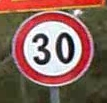limite 30: (11, 10, 94, 87)
